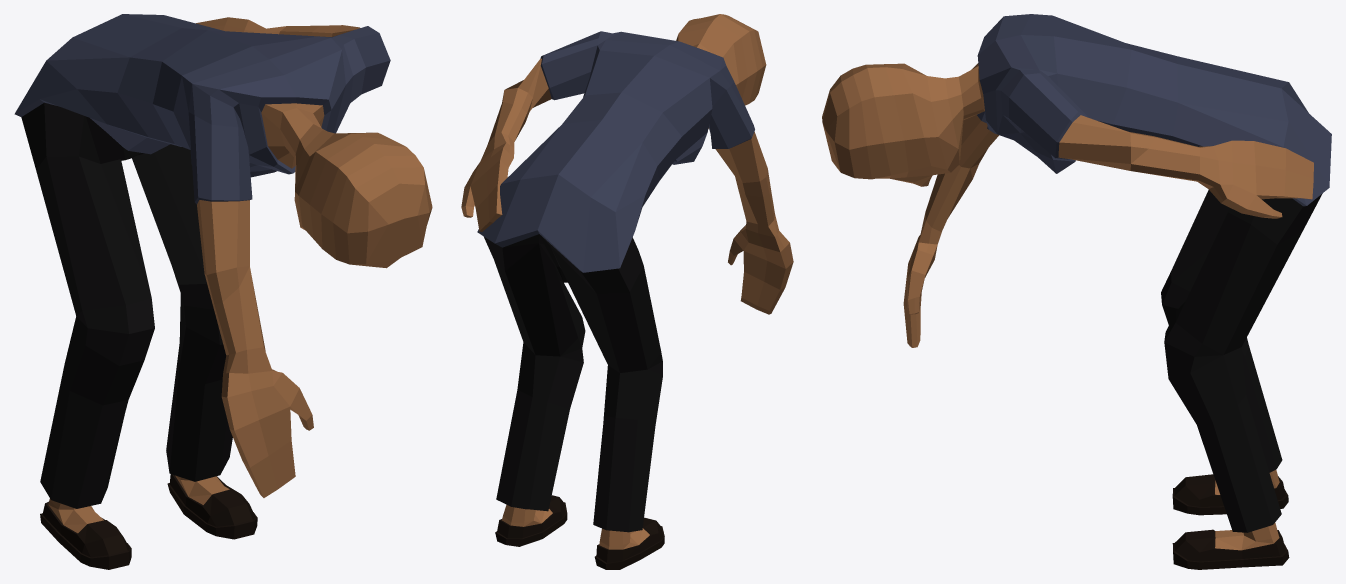
File: Female_PickingUp.obj
3 views of the same model, side by side, from view 1: azimuth 30°, elevation 25°; view 2: azimuth 150°, elevation 25°; view 3: azimuth 270°, elevation 25° (orthographic). The views are drawn at different scales.
Visible parts, largest first — view 1: Female_PickingUp_Cylinder.003; view 2: Female_PickingUp_Cylinder.003; view 3: Female_PickingUp_Cylinder.003.
Boxes of the visible parts, x1,y1,x2,y2 form: Female_PickingUp_Cylinder.003: (14,14,432,569); Female_PickingUp_Cylinder.003: (461,14,793,569); Female_PickingUp_Cylinder.003: (822,14,1331,569).
Bounding box in the file's own units: 1.08 × 2.26 × 2.09.
